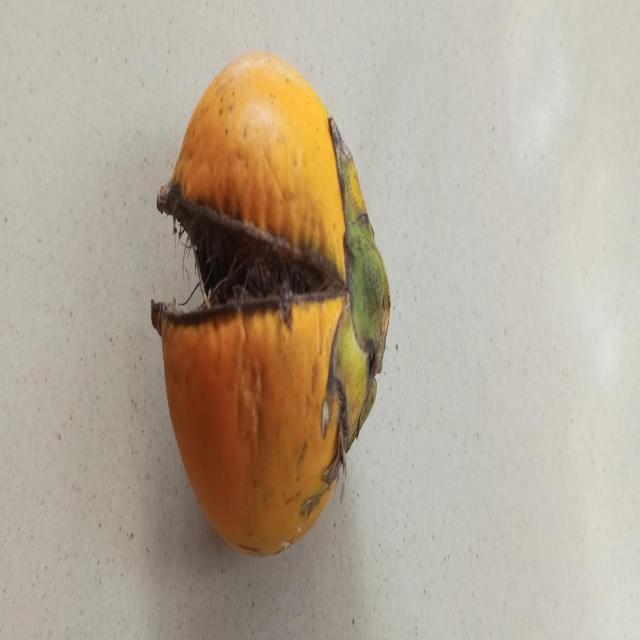damaged: (151, 53, 390, 556)
